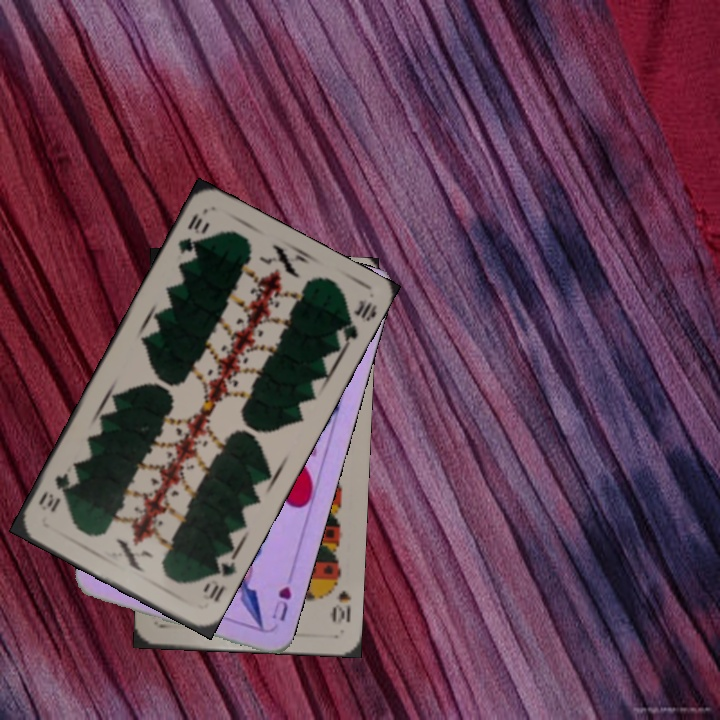G10: (198, 549, 239, 605), (174, 208, 212, 257)
HU: (267, 581, 294, 624)
S10: (327, 571, 354, 626)
